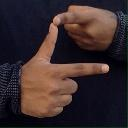hand: (19, 21, 109, 118), (52, 4, 117, 51)
